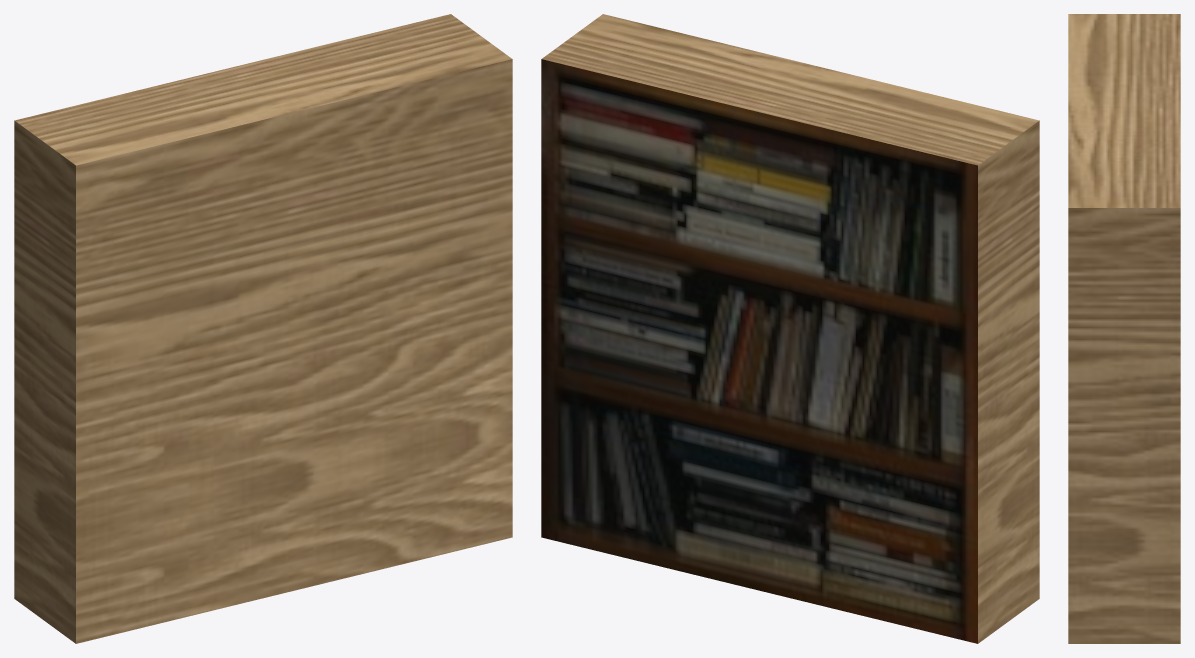
File: BookCase1glb.glb
3 renders of one model, left to right at view 1: azimuth 30°, elevation 25°; view 2: azimuth 150°, elevation 25°; view 3: azimuth 270°, elevation 25°, orthographic. The views are drawn at different scales.
Visible parts, largest first — view 1: Librero.001; view 2: Librero.001; view 3: Librero.001.
Part boxes in pixels (x1,y1,x2,y2): Librero.001: (14,14,512,643); Librero.001: (541,14,1039,643); Librero.001: (1068,14,1180,643).
Bounding box in the file's own units: 2.5 × 2.62 × 0.6111.
2 materials, 2 textured.
